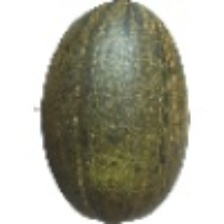honeydew: (40, 21, 209, 188)
